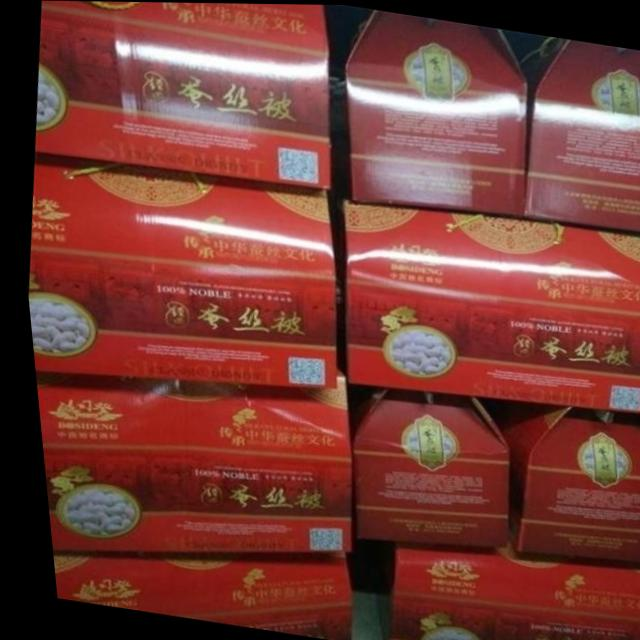box: (23, 151, 330, 388), (337, 196, 640, 413), (28, 368, 341, 552), (32, 0, 327, 189), (343, 10, 527, 216), (366, 532, 632, 640), (42, 552, 343, 640), (341, 385, 502, 546), (484, 400, 640, 561), (520, 35, 640, 233)
